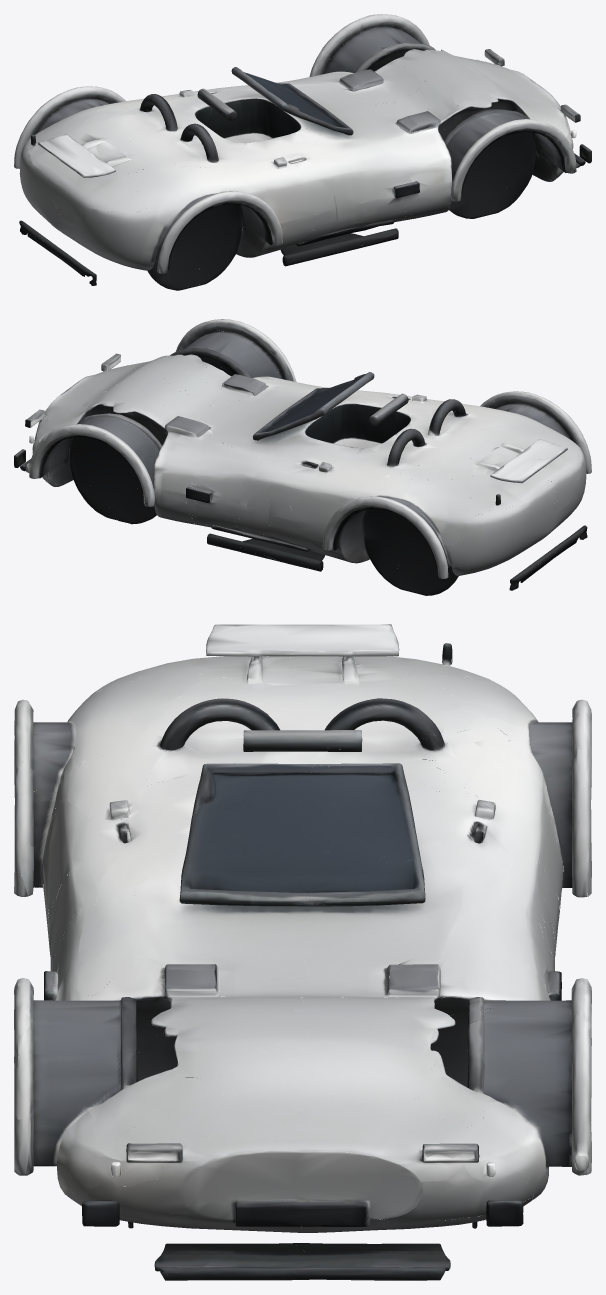
The model's file is car.glb.
The picture shows the model from 3 angles, top to bottom: view 1: azimuth 30°, elevation 25°; view 2: azimuth 150°, elevation 25°; view 3: azimuth 270°, elevation 25°; orthographic projection. The views are drawn at different scales.
Visible parts, largest first — view 1: tripo_node_856e0f6e-f6aa-49ff-bdd5-c056c3d662ff; view 2: tripo_node_856e0f6e-f6aa-49ff-bdd5-c056c3d662ff; view 3: tripo_node_856e0f6e-f6aa-49ff-bdd5-c056c3d662ff.
Boxes of the visible parts, box(x1,y1,x2,y2) form: tripo_node_856e0f6e-f6aa-49ff-bdd5-c056c3d662ff: box(14, 14, 591, 290); tripo_node_856e0f6e-f6aa-49ff-bdd5-c056c3d662ff: box(14, 319, 591, 595); tripo_node_856e0f6e-f6aa-49ff-bdd5-c056c3d662ff: box(14, 624, 591, 1280).
Bounding box in the file's own units: 1 × 0.275 × 0.5177.
Materials: 1 (1 with a texture image).
